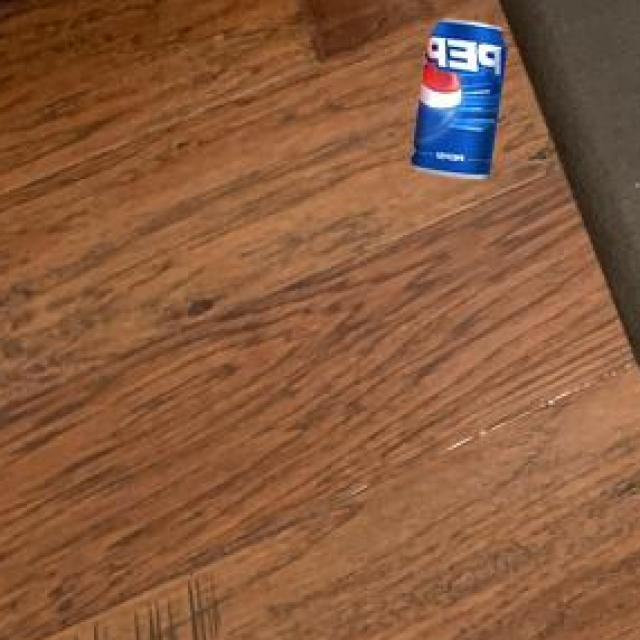logam: (415, 17, 509, 176)
